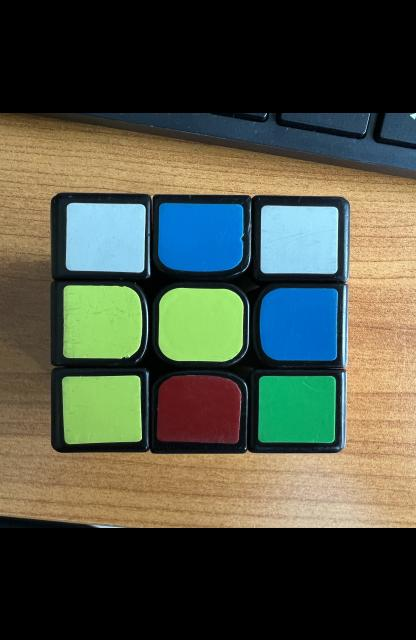Blue: (158, 202, 243, 270), (259, 288, 338, 360)
Green: (258, 375, 336, 442)
Red: (157, 374, 242, 442)
White: (66, 202, 146, 271), (260, 204, 338, 272)
Yellow: (158, 286, 244, 361), (63, 284, 143, 358), (62, 374, 142, 444)
